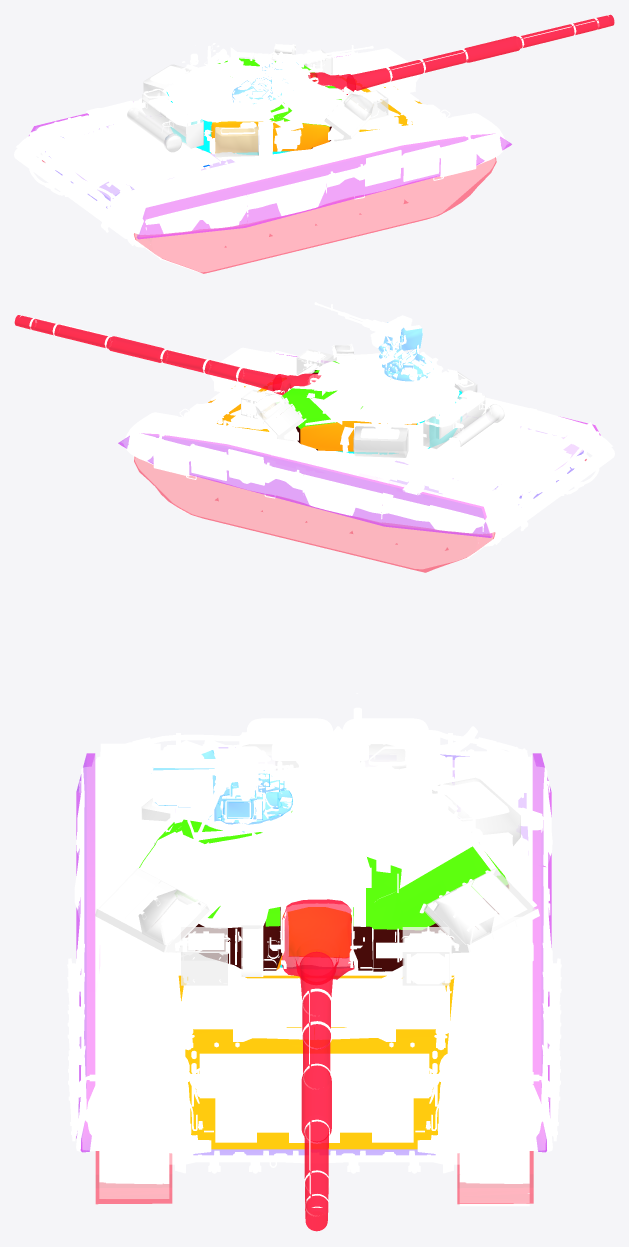
3 renders of one model, top to bottom at view 1: azimuth 30°, elevation 25°; view 2: azimuth 150°, elevation 25°; view 3: azimuth 270°, elevation 25°, orthographic. The views are drawn at different scales.
Parts seen in each view (by area): view 1: T90A_1, T90A, T90A_4, T72B3_track_right_col_114, T72B3_sideskirt_col_right_117, SM_T90A_Turret_Col_NoDamage_99, SM_T90A_Gun_Col_102, T90A_2, T90A_7, SM_T90A_Turret_Col_4, T90A_3, SM_T90A_Turret_Col_1 (+5 smaller); view 2: T90A_1, T90A, T90A_4, T72B3_track_left_col_111, T72B3_sideskirt_col_left_120, SM_T90A_Turret_Col_NoDamage_99, SM_T90A_Gun_Col_102, T90A_2, T90A_7, SM_T90A_Col, T90A_3, SM_T90A_Turret_Col_4 (+7 smaller); view 3: T90A, T90A_4, T90A_1, SM_T90A_Turret_Col_NoDamage_99, SM_T90A_Gun_Col_102, SM_T90A_Col_1, T90A_2, T90A_3, SM_T90A_Turret_Col_2, T90A_7, T72B3_sideskirt_col_right_117, SM_T90A_Col (+9 smaller).
Part boxes in pixels (bbox=[...]): T90A_1: bbox=[14, 48, 506, 267]; T90A: bbox=[29, 52, 471, 247]; T90A_4: bbox=[126, 43, 378, 155]; T72B3_track_right_col_114: bbox=[134, 157, 496, 273]; T72B3_sideskirt_col_right_117: bbox=[136, 133, 511, 239]; SM_T90A_Turret_Col_NoDamage_99: bbox=[127, 45, 388, 157]; SM_T90A_Gun_Col_102: bbox=[308, 14, 614, 94]; T90A_2: bbox=[44, 157, 496, 272]; T90A_7: bbox=[232, 59, 308, 110]; SM_T90A_Turret_Col_4: bbox=[211, 121, 329, 153]; T90A_3: bbox=[303, 15, 608, 118]; SM_T90A_Turret_Col_1: bbox=[166, 75, 271, 122]; T90A_1: bbox=[123, 347, 614, 564]; T90A: bbox=[158, 351, 599, 546]; T90A_4: bbox=[249, 343, 503, 454]; T72B3_track_left_col_111: bbox=[134, 456, 495, 572]; T72B3_sideskirt_col_left_120: bbox=[118, 433, 492, 537]; SM_T90A_Turret_Col_NoDamage_99: bbox=[241, 344, 504, 457]; SM_T90A_Gun_Col_102: bbox=[14, 315, 321, 395]; T90A_2: bbox=[133, 456, 494, 569]; T90A_7: bbox=[379, 315, 434, 381]; SM_T90A_Col: bbox=[191, 427, 494, 532]; T90A_3: bbox=[20, 315, 325, 420]; SM_T90A_Turret_Col_4: bbox=[300, 421, 416, 451]; T90A: bbox=[97, 718, 543, 1173]; T90A_4: bbox=[97, 693, 539, 976]; T90A_1: bbox=[67, 726, 561, 1157]; SM_T90A_Turret_Col_NoDamage_99: bbox=[95, 744, 536, 985]; SM_T90A_Gun_Col_102: bbox=[282, 899, 354, 1231]; SM_T90A_Col_1: bbox=[178, 975, 454, 1149]; T90A_2: bbox=[99, 1150, 529, 1206]; T90A_3: bbox=[182, 909, 455, 1216]; SM_T90A_Turret_Col_2: bbox=[139, 811, 507, 929]; T90A_7: bbox=[150, 740, 292, 830]; T72B3_sideskirt_col_right_117: bbox=[76, 753, 95, 1152]; SM_T90A_Col: bbox=[88, 754, 534, 1065].
Bounding box in the file's own units: 9.67 × 3.49 × 3.79.
